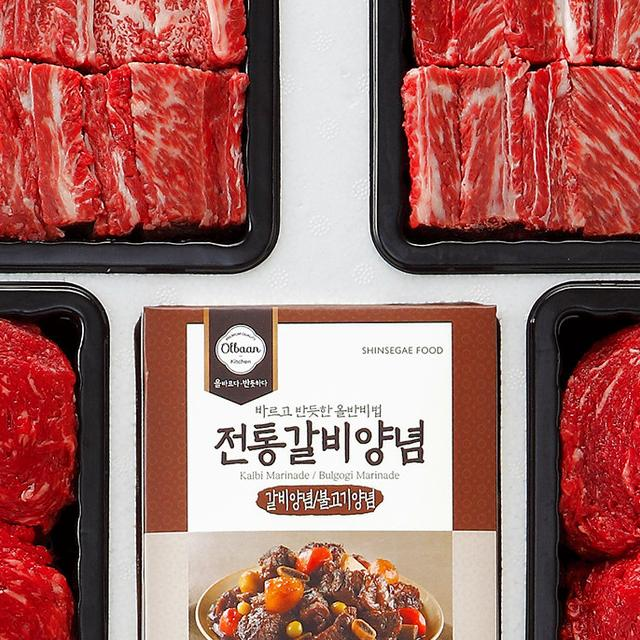beef: (0, 0, 254, 228), (416, 0, 640, 241), (0, 298, 95, 640)
